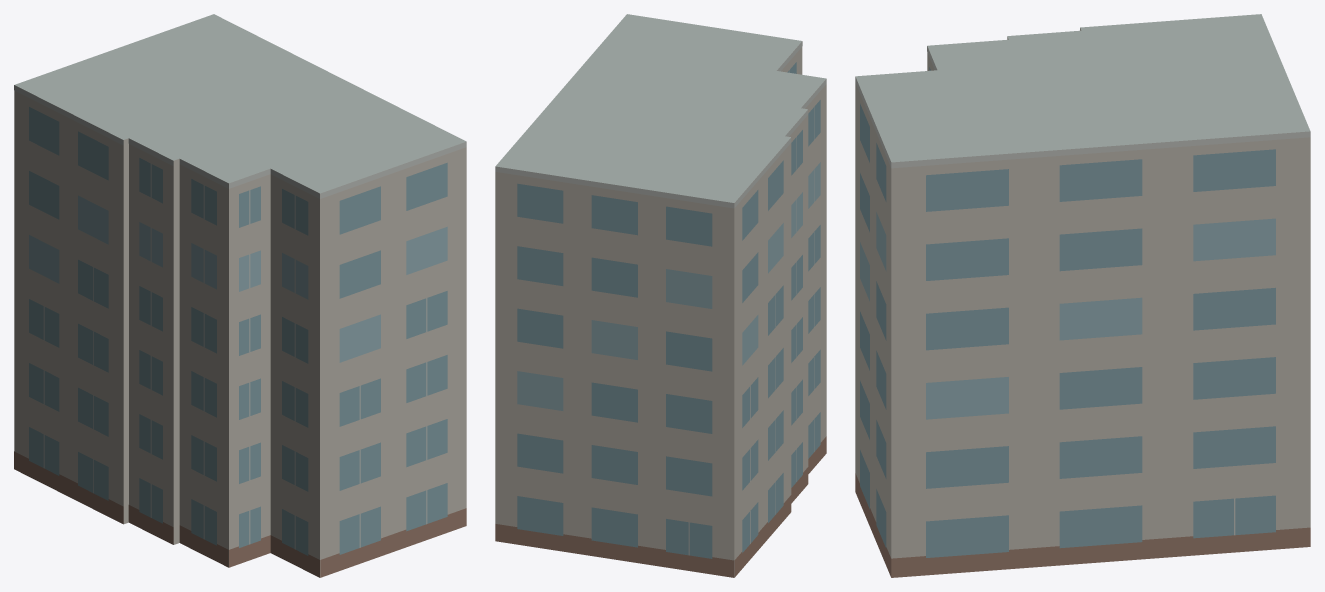
File: survey-upis-33036610.glb
The picture shows the model from 3 angles, left to right: view 1: azimuth 30°, elevation 25°; view 2: azimuth 150°, elevation 25°; view 3: azimuth 270°, elevation 25°; orthographic projection. The views are drawn at different scales.
Visible parts, largest first — view 1: survey-upis-33036610.tmp; view 2: survey-upis-33036610.tmp; view 3: survey-upis-33036610.tmp.
Part boxes in pixels (x1=…): survey-upis-33036610.tmp: x1=14, y1=14, x2=466, y2=577; survey-upis-33036610.tmp: x1=495, y1=14, x2=826, y2=577; survey-upis-33036610.tmp: x1=855, y1=14, x2=1310, y2=577.
Bounding box in the file's own units: 13.11 × 17.1 × 16.99.
